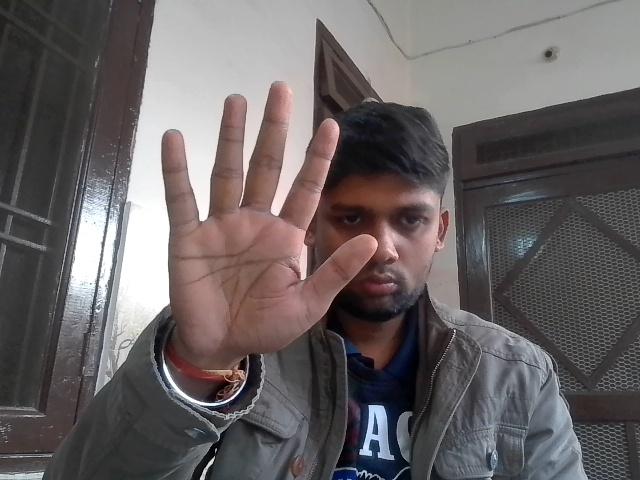Hello: (149, 72, 387, 392)
